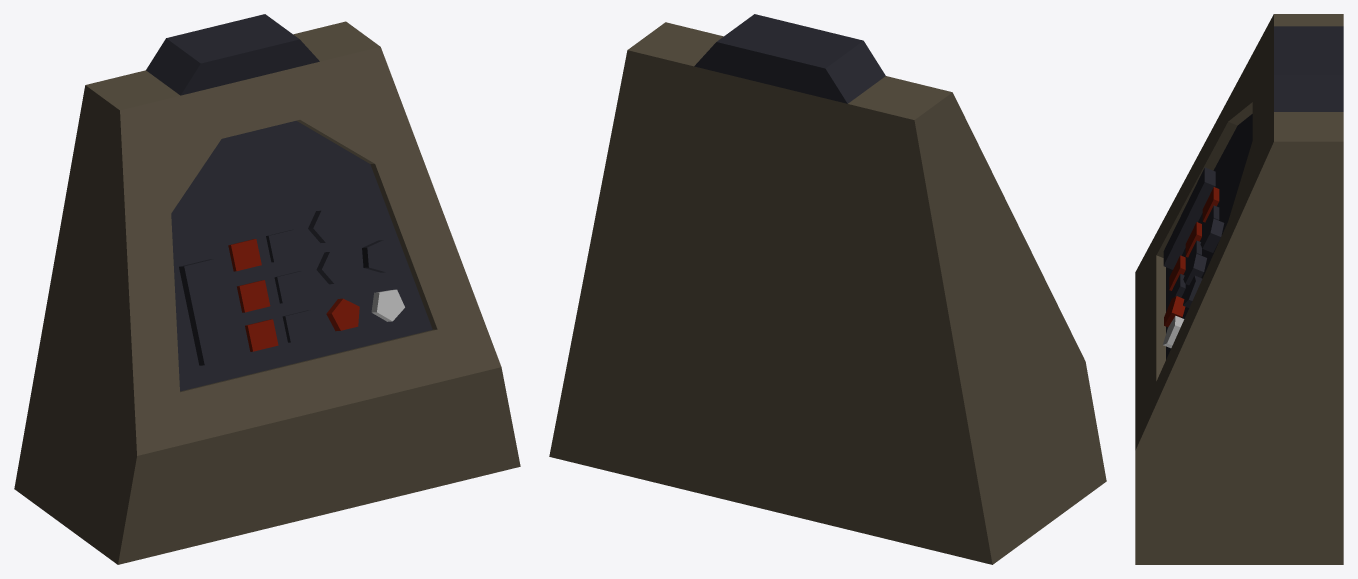
The model's file is LPSciFiCharacter_TerminalF.fbx.
3 renders of one model, left to right at view 1: azimuth 30°, elevation 25°; view 2: azimuth 150°, elevation 25°; view 3: azimuth 270°, elevation 25°, orthographic. The views are drawn at different scales.
Parts seen in each view (by area): view 1: TerminalF; view 2: TerminalF; view 3: TerminalF.
Part boxes in pixels (bbox=[...]): TerminalF: bbox=[14, 14, 520, 564]; TerminalF: bbox=[549, 14, 1106, 564]; TerminalF: bbox=[1135, 14, 1343, 564].
Size of the model in its own units: 80.18 by 78.74 by 35.75.
